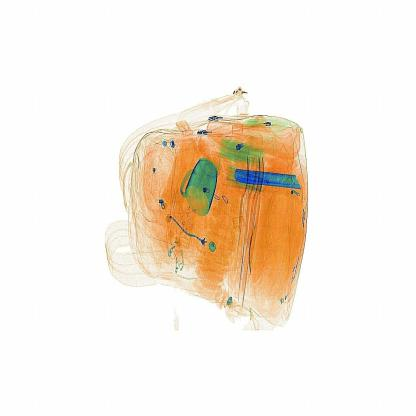pliers: (231, 170, 306, 198)
